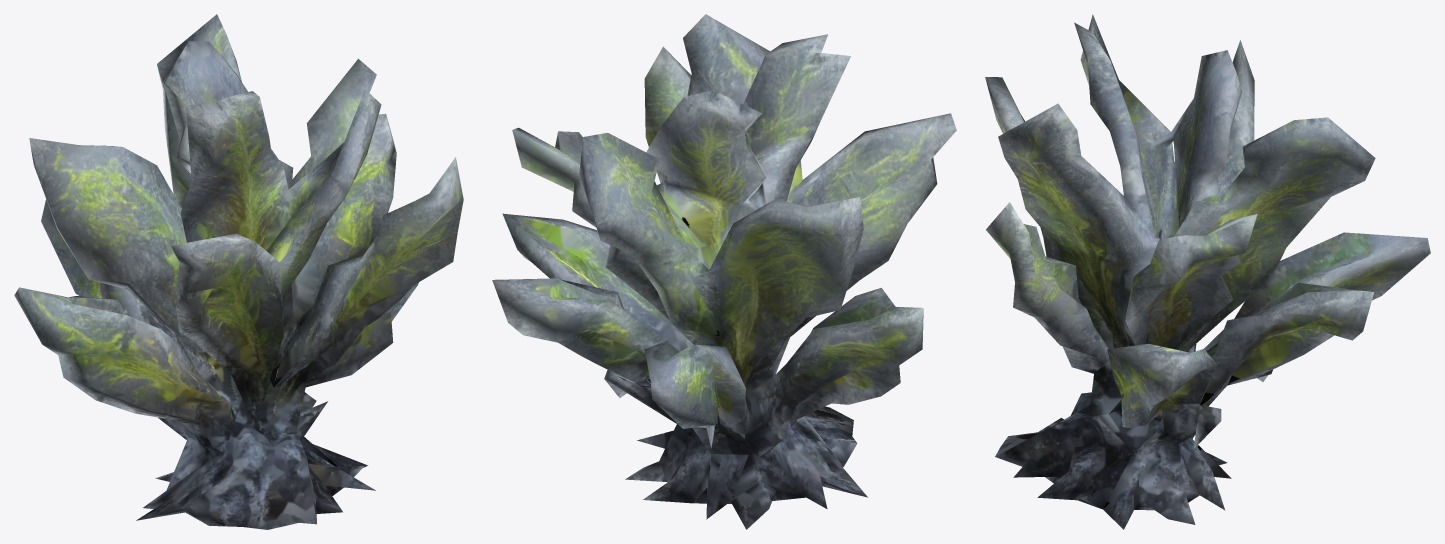
Rendered from fern_plant.glb.
3 views of the same model, side by side, from view 1: azimuth 30°, elevation 25°; view 2: azimuth 150°, elevation 25°; view 3: azimuth 270°, elevation 25° (orthographic).
Visible parts, largest first — view 1: low; view 2: low; view 3: low.
Boxes of the visible parts, x1=… form: low: x1=14, y1=14, x2=463, y2=529; low: x1=492, y1=14, x2=956, y2=529; low: x1=985, y1=14, x2=1430, y2=529.
Bounding box in the file's own units: 1.19 × 1.2 × 1.1.
Materials: 1 (1 with a texture image).
